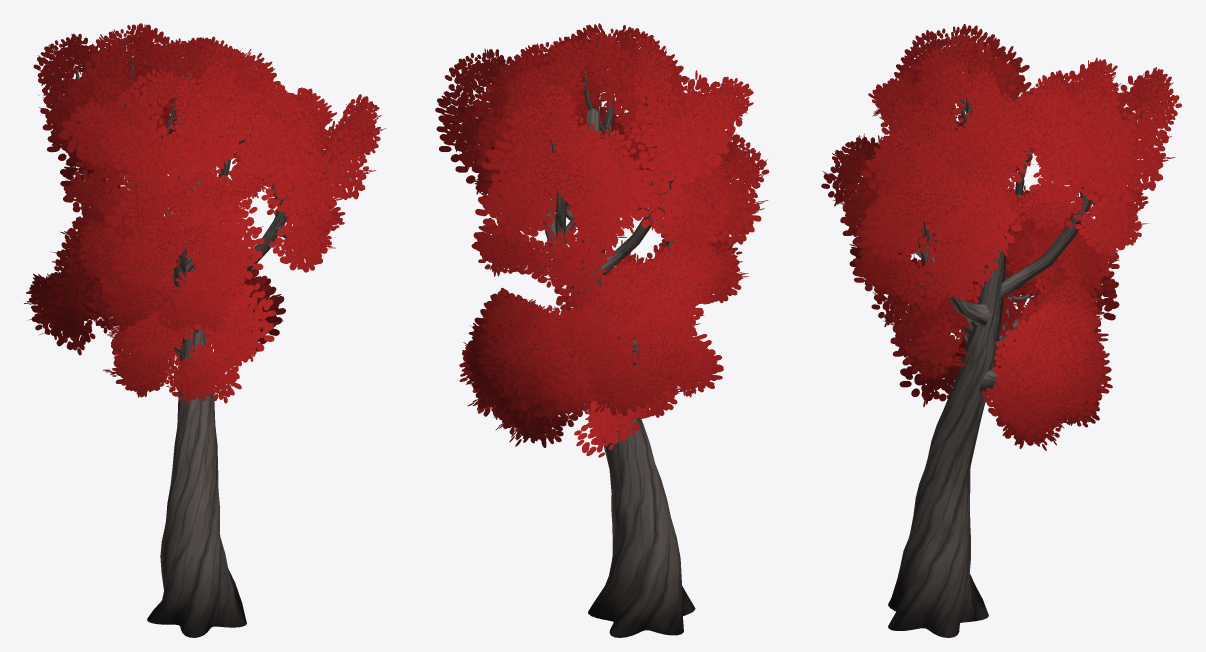
Rendered from TwistedTree_5.gltf.
3 renders of one model, left to right at view 1: azimuth 30°, elevation 25°; view 2: azimuth 150°, elevation 25°; view 3: azimuth 270°, elevation 25°, orthographic. The views are drawn at different scales.
Parts seen in each view (by area): view 1: TwistedTree_5; view 2: TwistedTree_5; view 3: TwistedTree_5.
Part boxes in pixels (x1,y1,x2,y2): TwistedTree_5: (24,23,386,637); TwistedTree_5: (435,23,769,637); TwistedTree_5: (821,24,1181,637).
Size of the model in its own units: 9.49 by 15.66 by 9.39.
2 materials, 2 textured.
